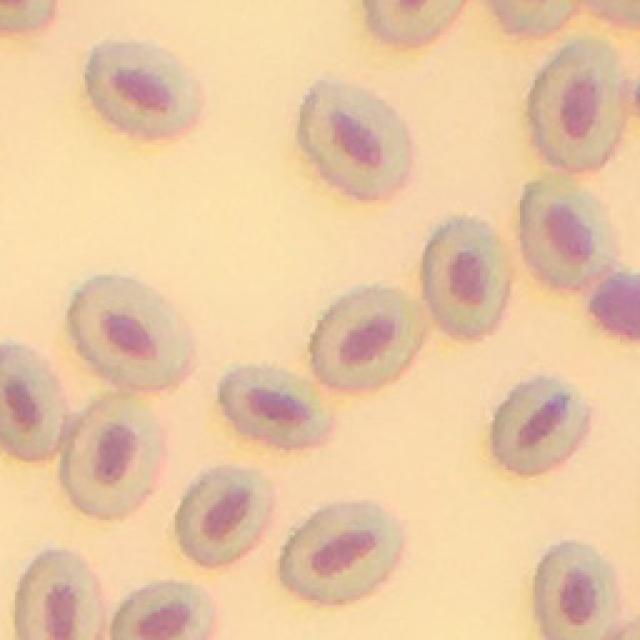RBC: (298, 80, 410, 199), (69, 278, 188, 388), (61, 395, 160, 516), (529, 41, 622, 169), (281, 504, 401, 602), (311, 286, 422, 388), (86, 42, 198, 136), (425, 218, 509, 336), (521, 180, 612, 286), (176, 468, 271, 564), (492, 378, 586, 472), (220, 366, 329, 446), (535, 542, 616, 640), (0, 342, 64, 458), (16, 551, 100, 639), (112, 582, 212, 640), (365, 1, 464, 44)
WBC: (591, 274, 640, 338)
